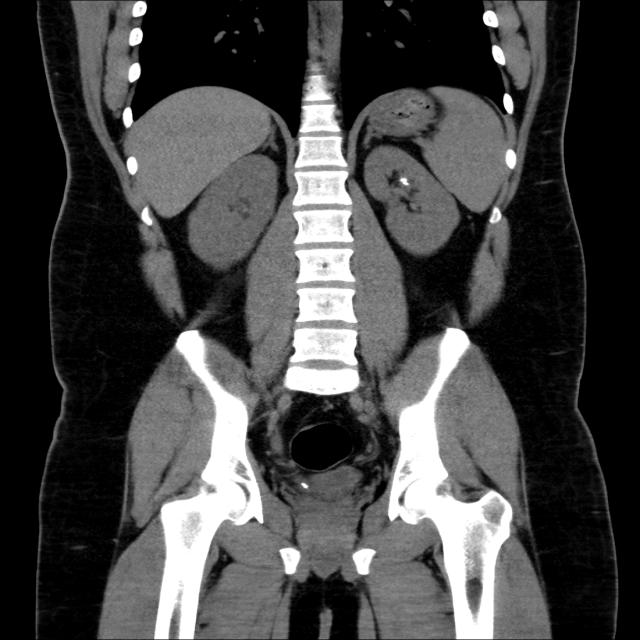kidneystone: (400, 178, 408, 186)
